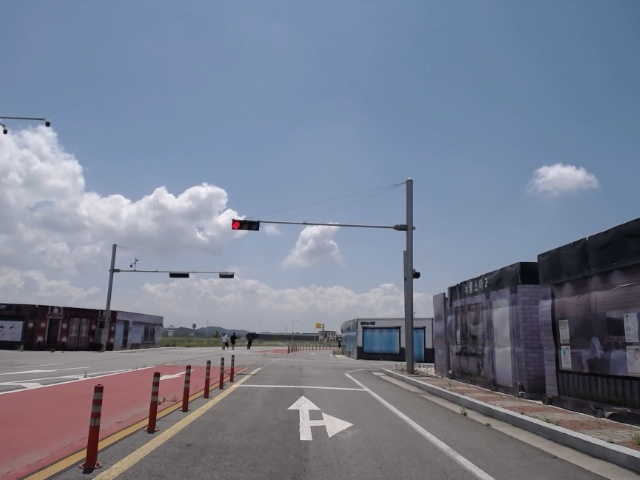red_3: (232, 219, 259, 230)
